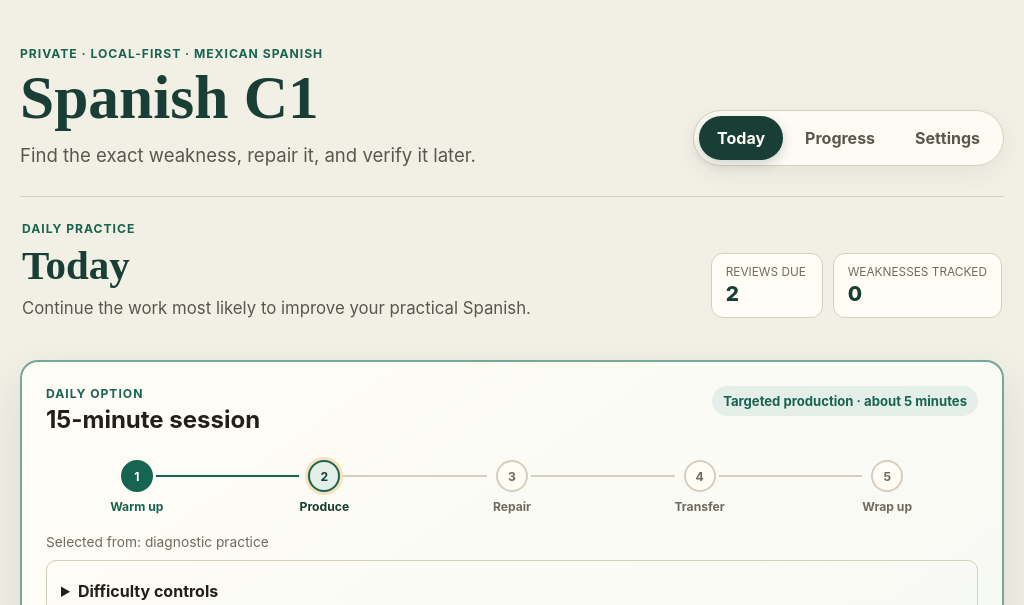
15-minute desktop session UI › opens on Today, separates secondary views, and preserves a restored session while navigating
Check: the heading "Weakness dashboard" is not shown
Click the button "Progress".
click(840, 138)  # box [787,116,893,160]
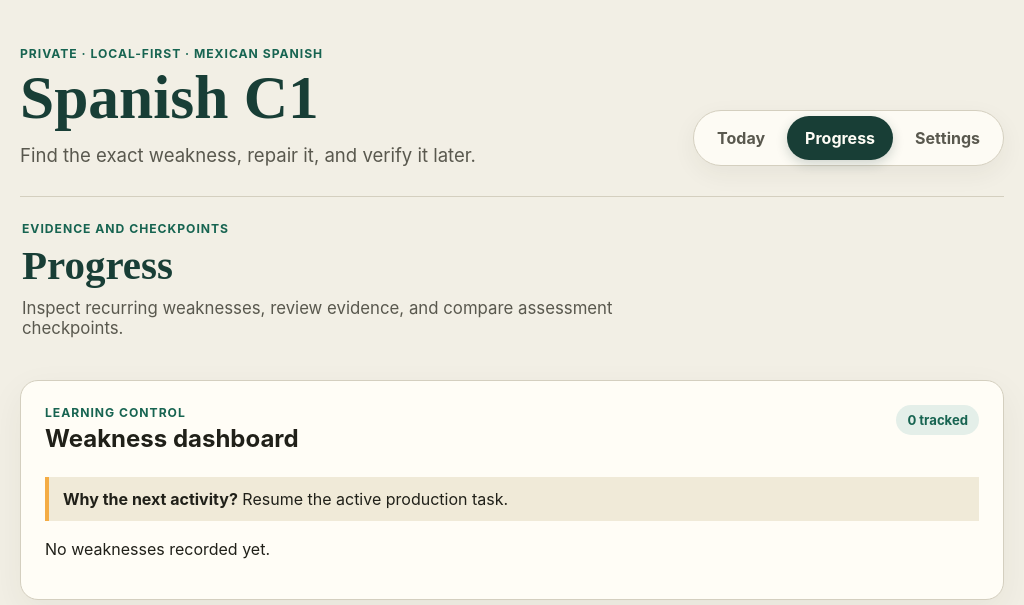
Check: the heading "Progress" is shown, box [22,242,173,288]
Check: the heading "Weakness dashboard" is shown, box [45,425,299,454]
Click the button "Settings".
click(948, 138)  # box [897,116,998,160]
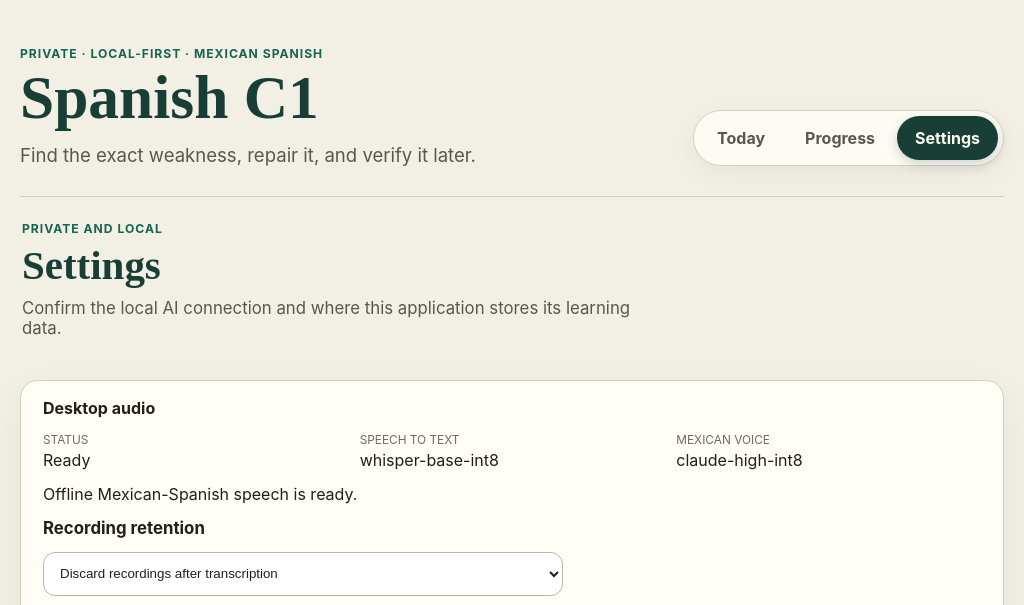
Check: the heading "Settings" is shown, box [22,242,161,288]
Click the button "Today".
click(741, 138)  # box [699,116,783,160]
(page scrolled)
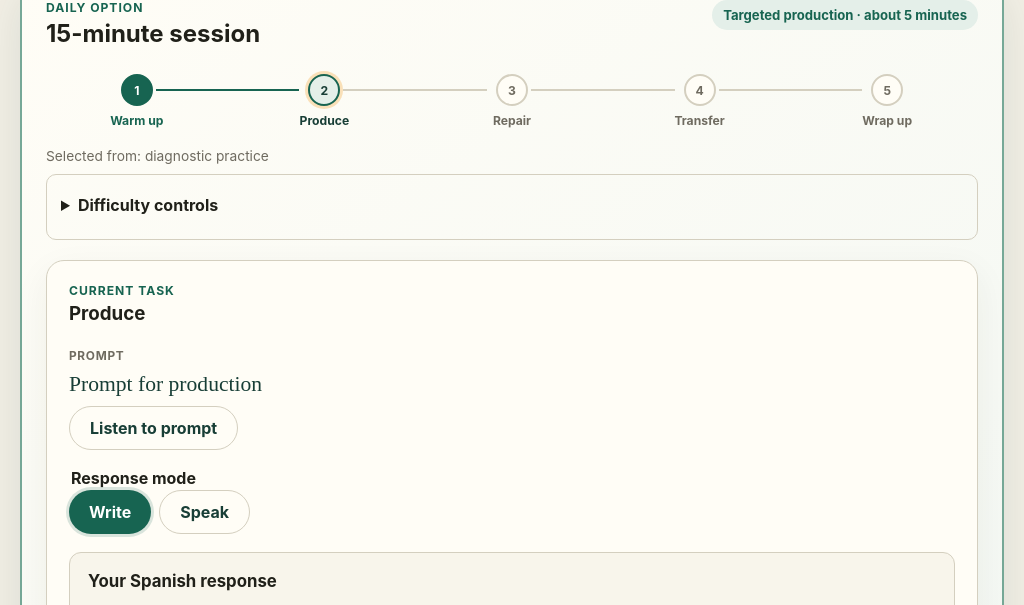
Check: the text "Prompt for production" is shown, box [69,372,262,396]
